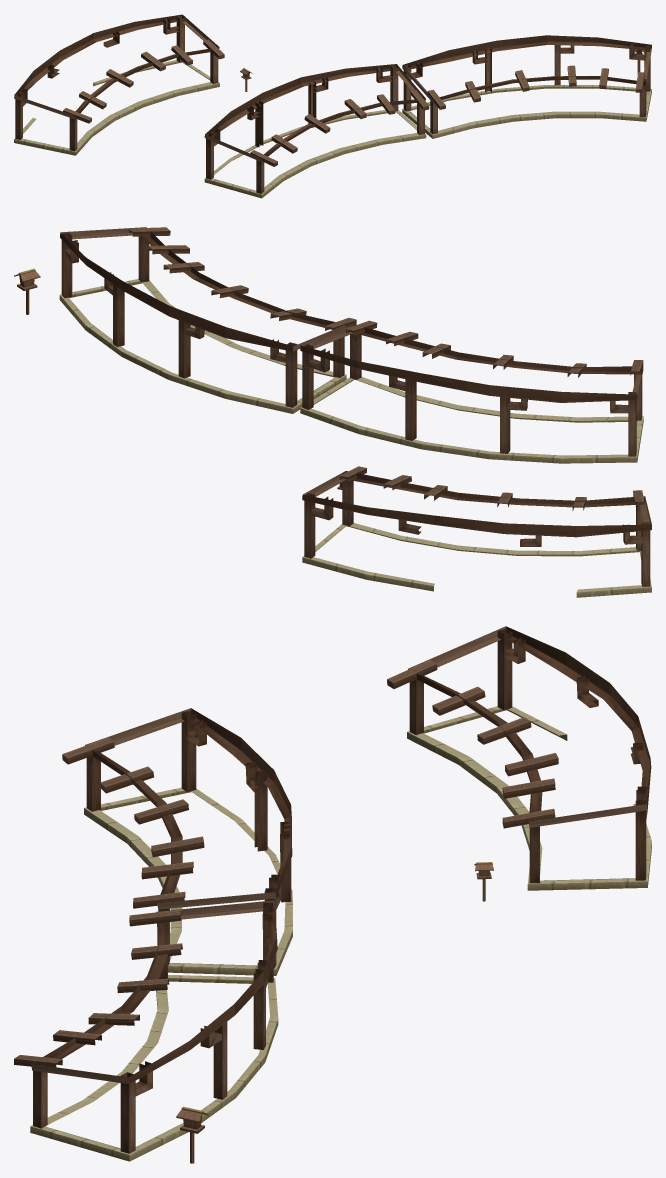
Rendered from Area_06_8.fbx.
The picture shows the model from 3 angles, top to bottom: view 1: azimuth 30°, elevation 25°; view 2: azimuth 150°, elevation 25°; view 3: azimuth 270°, elevation 25°; orthographic projection. The views are drawn at different scales.
Parts seen in each view (by area): view 1: Area_06_8; view 2: Area_06_8; view 3: Area_06_8.
Part boxes in pixels (x1,y1,x2,y2): Area_06_8: [14, 14, 651, 198]; Area_06_8: [14, 227, 651, 597]; Area_06_8: [14, 626, 651, 1163].
Size of the model in its own units: 5768 by 568 by 3365.
